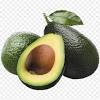aguacate: (39, 13, 100, 90), (2, 22, 47, 87)
